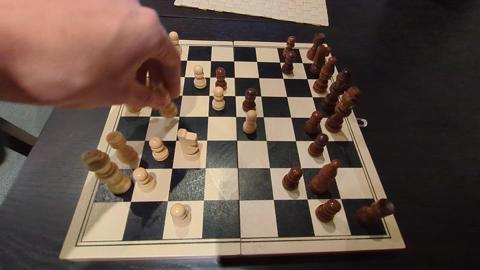xcorner: (301, 74, 310, 83), (306, 92, 315, 101), (230, 112, 239, 121), (297, 58, 305, 67), (274, 58, 283, 66), (252, 57, 260, 66), (205, 57, 214, 65), (253, 74, 262, 82), (229, 73, 237, 82), (204, 73, 213, 81), (180, 72, 188, 81), (154, 72, 163, 80), (230, 91, 238, 100), (204, 91, 212, 100), (150, 91, 159, 99), (312, 113, 321, 121), (285, 113, 294, 121), (258, 112, 266, 121), (202, 112, 211, 120), (174, 112, 183, 120), (231, 136, 240, 144), (201, 136, 210, 144), (296, 163, 304, 172), (264, 163, 272, 172), (232, 164, 241, 172), (336, 194, 344, 203), (268, 195, 276, 204), (233, 196, 242, 204), (198, 196, 207, 204), (126, 197, 135, 205), (229, 57, 237, 65), (182, 56, 190, 64), (158, 56, 166, 64), (278, 74, 286, 82), (281, 92, 289, 100), (256, 92, 264, 100), (177, 91, 185, 99), (146, 112, 154, 120), (319, 136, 327, 144), (290, 136, 298, 144), (261, 136, 269, 144), (171, 136, 179, 144), (140, 136, 148, 144), (327, 163, 335, 171), (200, 164, 208, 172), (167, 164, 175, 172), (134, 164, 142, 172), (302, 195, 310, 203), (163, 197, 171, 205)
